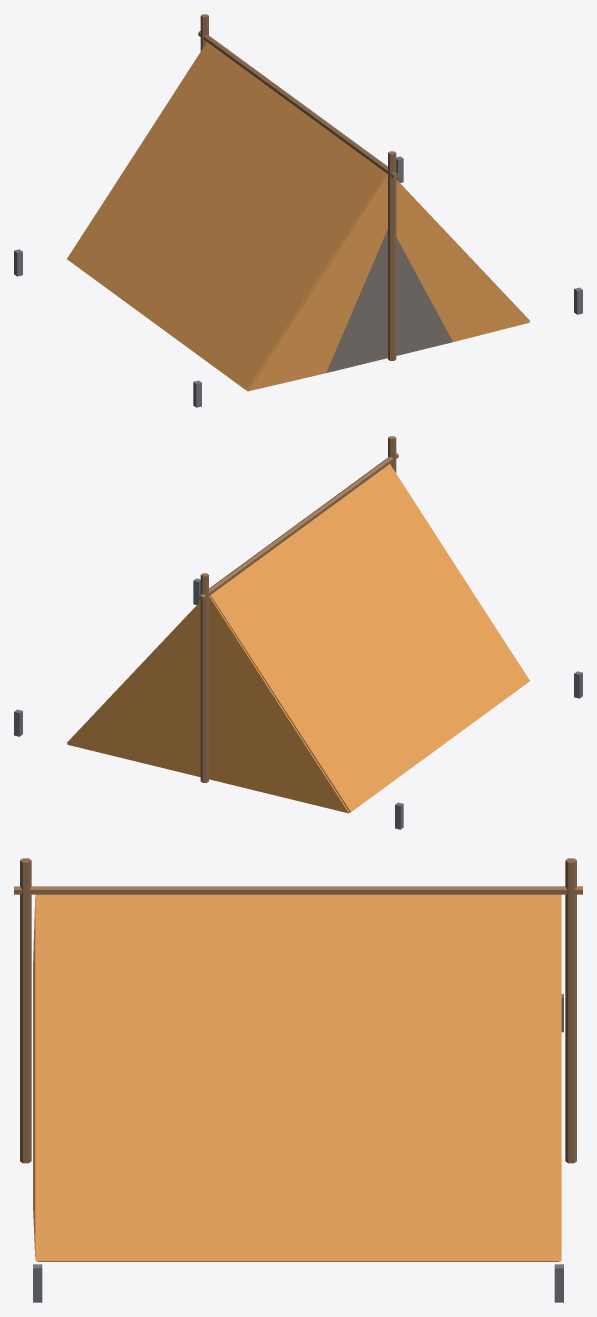
File: SM_Tent.fbx
The picture shows the model from 3 angles, top to bottom: view 1: azimuth 30°, elevation 25°; view 2: azimuth 150°, elevation 25°; view 3: azimuth 270°, elevation 25°; orthographic projection. The views are drawn at different scales.
Parts seen in each view (by area): view 1: SM_Tent; view 2: SM_Tent; view 3: SM_Tent.
Part boxes in pixels (left/top/right/bottom): SM_Tent: left=14, top=14, right=582, bottom=407; SM_Tent: left=14, top=436, right=582, bottom=829; SM_Tent: left=14, top=858, right=582, bottom=1302.
Bounding box in the file's own units: 2.74 × 1.42 × 2.4.
